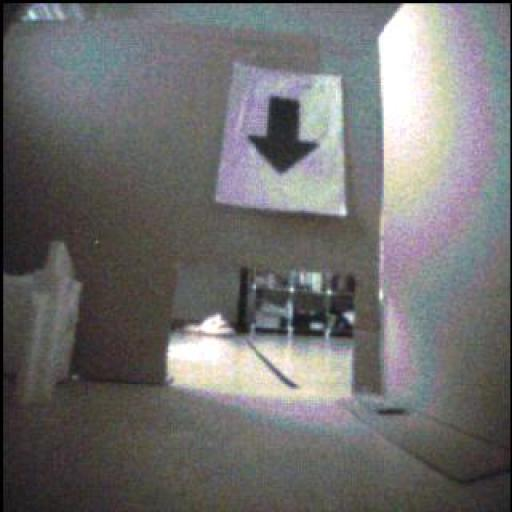arrow: (249, 97, 319, 174)
